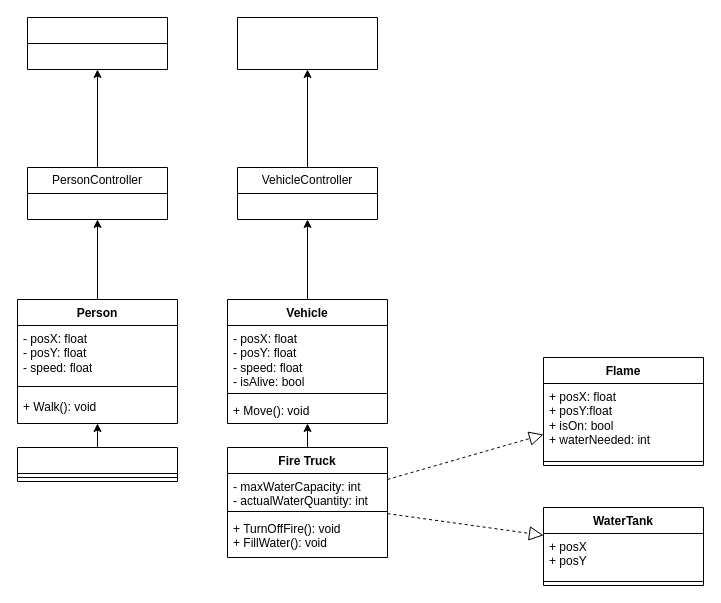
The diagram is 721 pixels wide and 603 high, and some of its shapes have lost their labels. Each missing label, with the centre of its shape:
"AIAgent" belongs at (97,43).
"Cityzen" belongs at (97,464).
"Events" belongs at (307,43).
